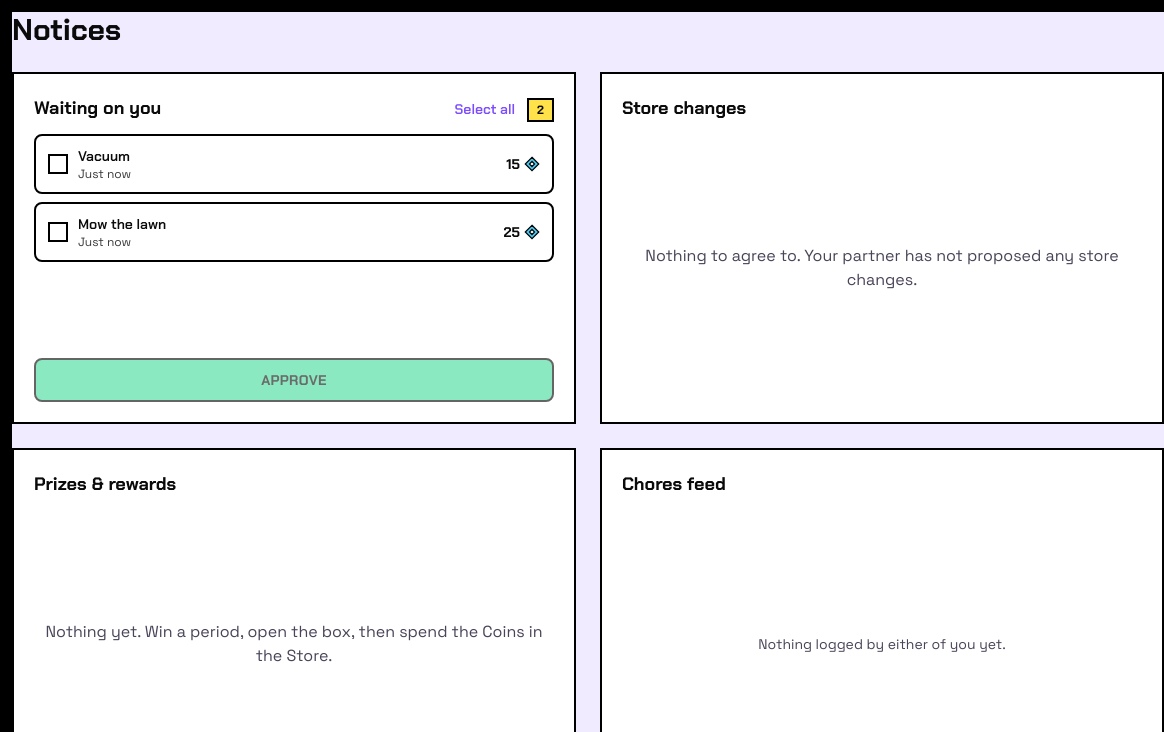
bulk approve › reports what the server did, not what was asked
Step 1. Click the button "Vacuum Just now 15" → (104, 156), box [34,134,554,194]
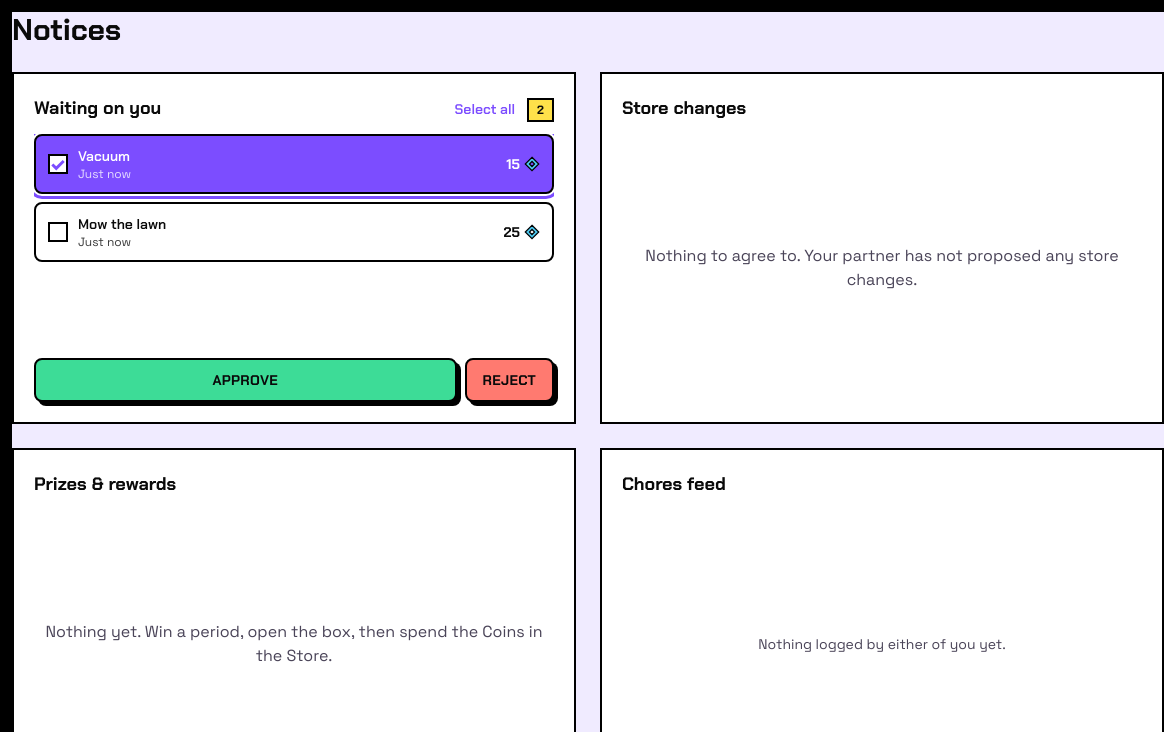
Step 2. Click the button "Mow the lawn Just now 25" → (122, 224), box [34,202,554,262]
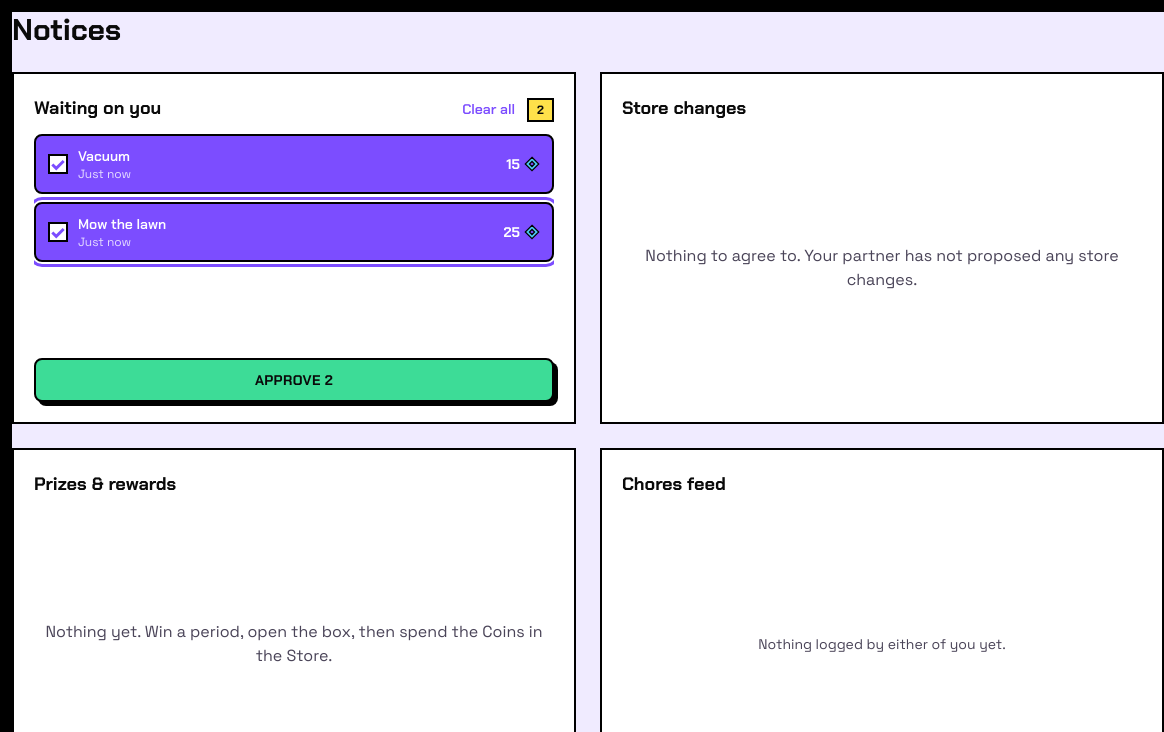
Step 3. Click the button "Approve 2" → (294, 380), box [34,358,554,402]
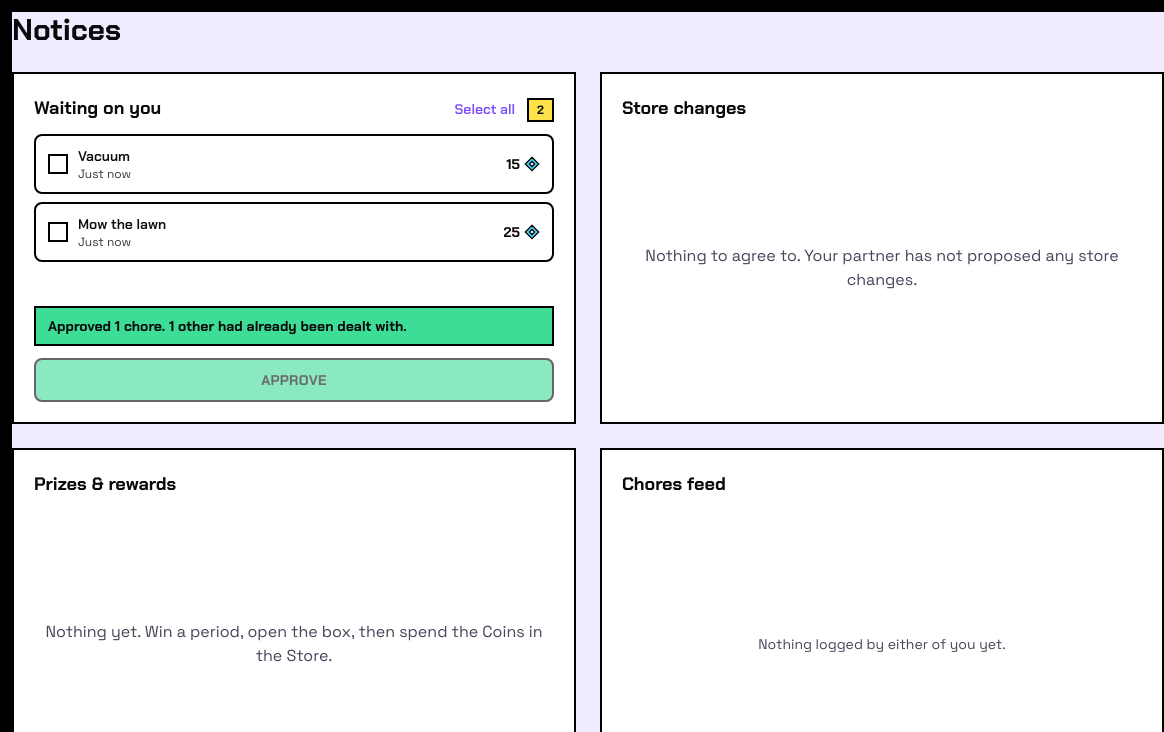
Expected: the message does not show "approved 2", [34,306,554,346]
Expected: the message shows "Approved 1 chore.", [48,317,407,335]
Expected: the message shows "already been dealt with", [48,317,407,335]
